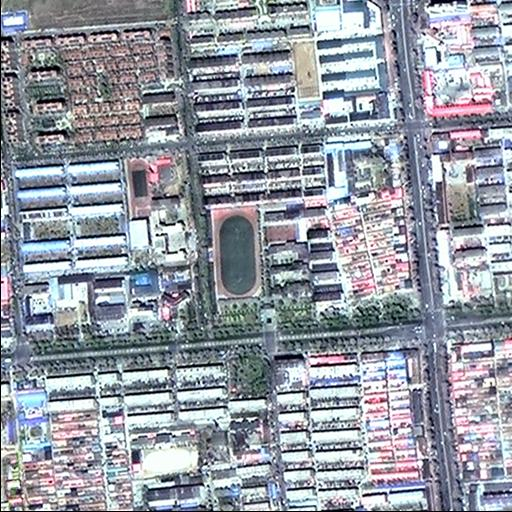school: (210, 202, 311, 315), (120, 147, 198, 266)
